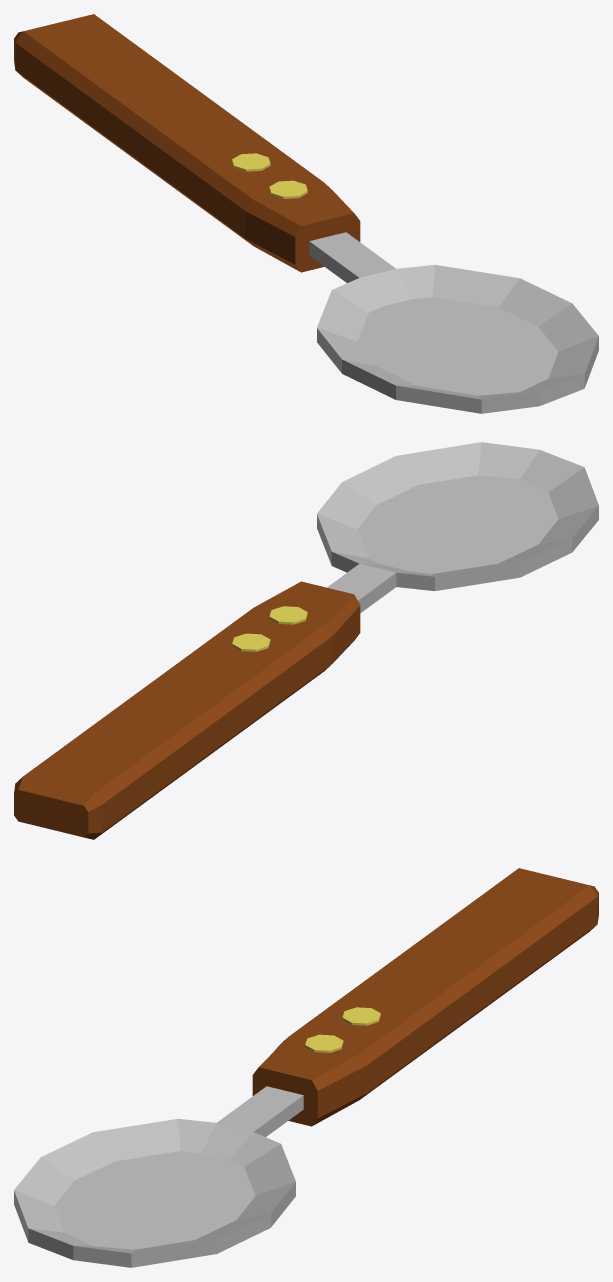
File: Cuchara.fbx
3 renders of one model, top to bottom at view 1: azimuth 30°, elevation 25°; view 2: azimuth 150°, elevation 25°; view 3: azimuth 330°, elevation 25°, orthographic.
Visible parts, largest first — view 1: Cuchara; view 2: Cuchara; view 3: Cuchara.
Part boxes in pixels (x1,y1,x2,y2): Cuchara: [14, 14, 598, 413]; Cuchara: [14, 442, 598, 839]; Cuchara: [14, 868, 598, 1267].
Size of the model in its own units: 9.53 by 1.92 by 35.03.
